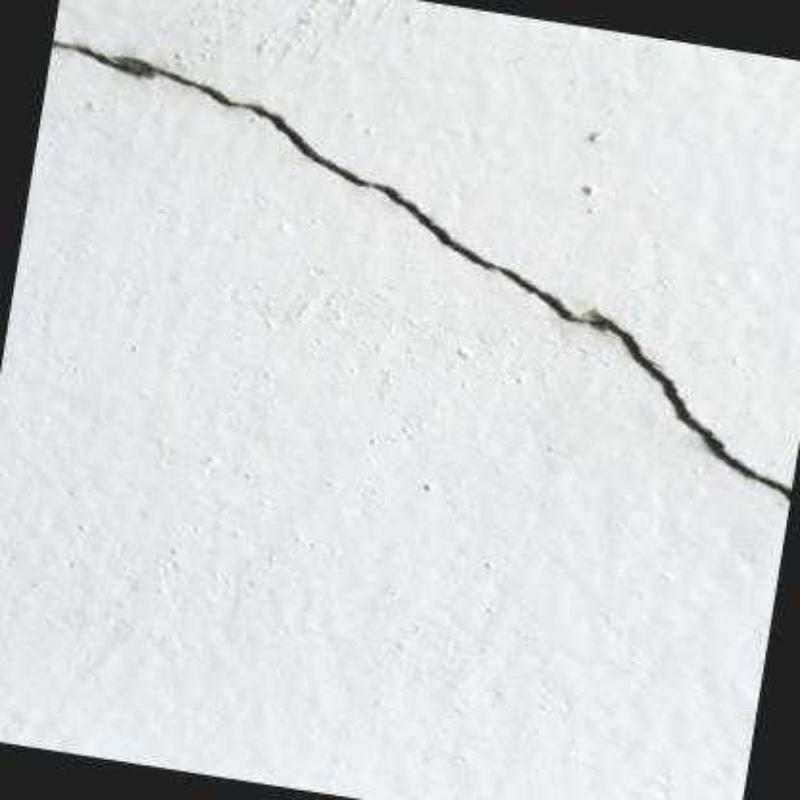pothole: (50, 40, 791, 503)
